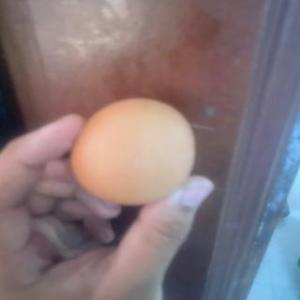egg: (68, 94, 200, 206)
